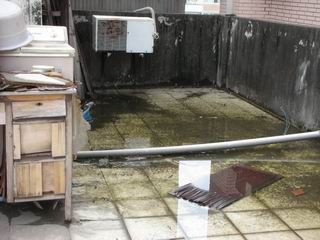washing_machine: (1, 23, 78, 90)
